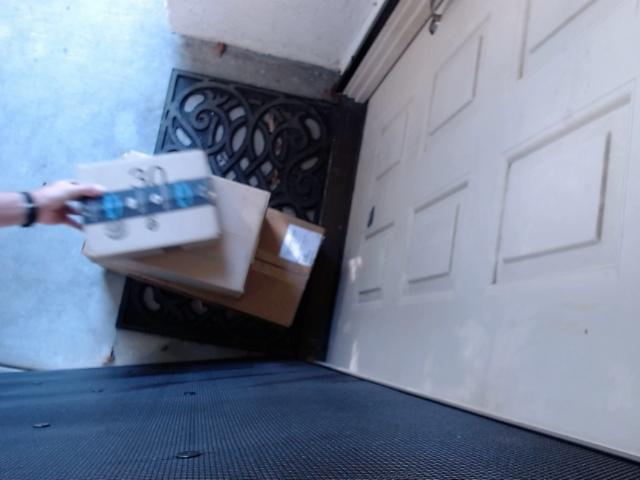box: (134, 174, 321, 343), (84, 155, 269, 301), (62, 138, 234, 247)
